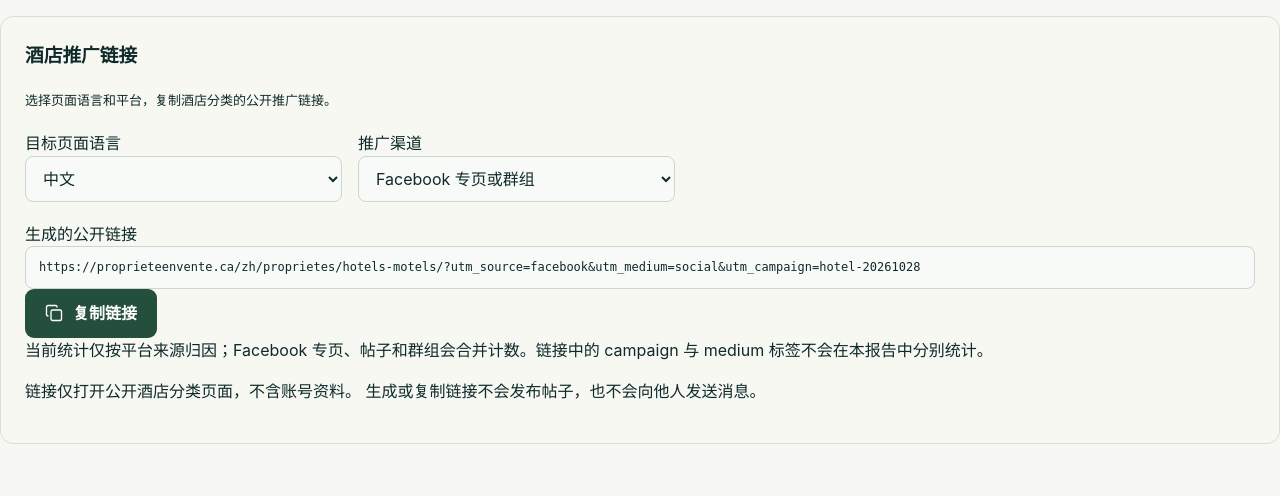
Test: private traffic dashboard › leaves the complete generated URL available when automatic copy fails
The image size is (1280, 496).
Click the button "复制链接".
click(91, 313)  # box [25,289,157,338]
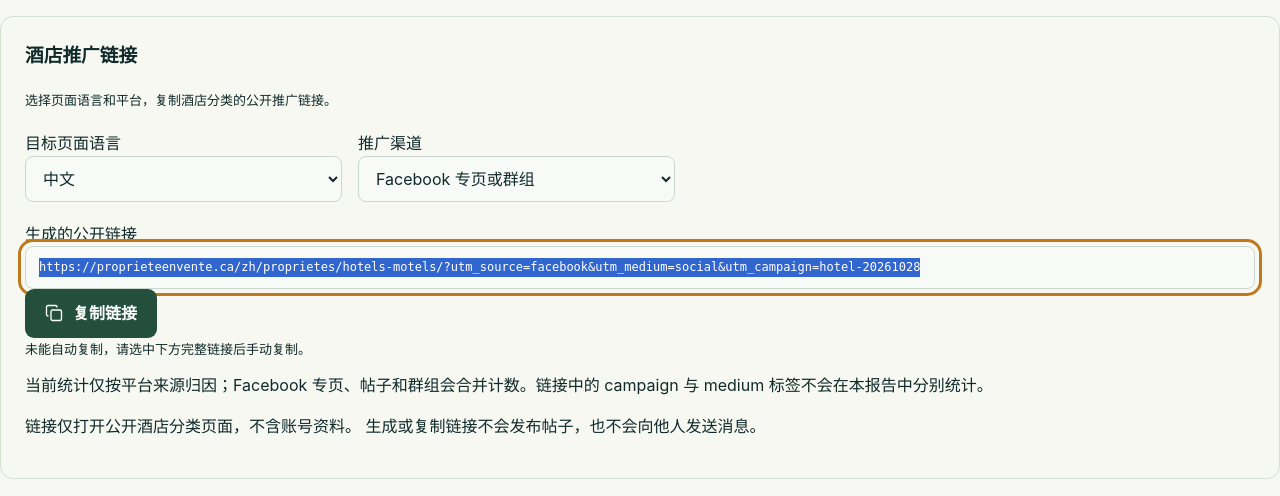
Expected: the message "未能自动复制，请选中下方完整链接后手动复制。" is shown, [25,341,311,357]
